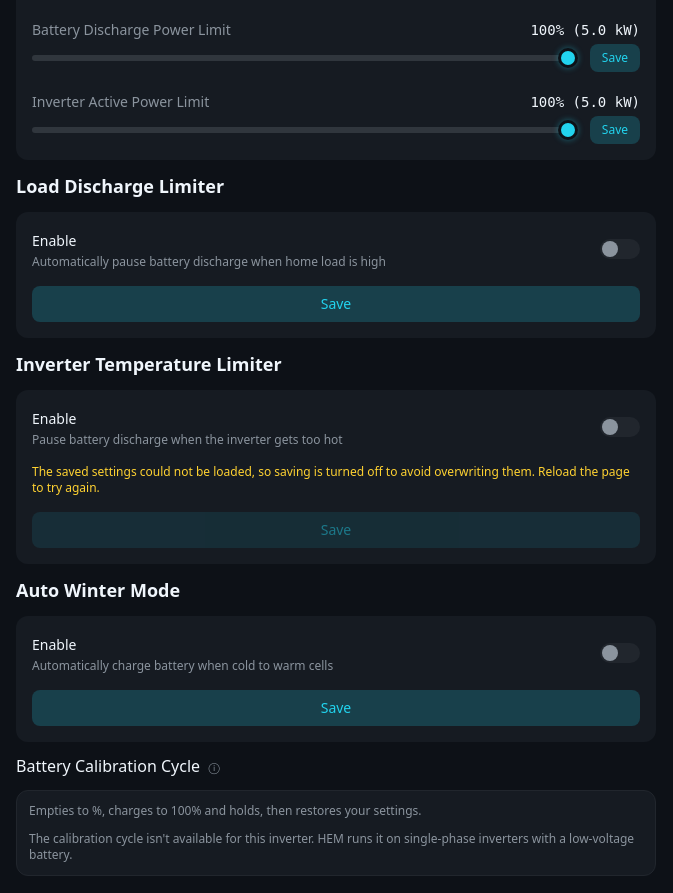
Scenario: <ControlPage/> — Auto Winter save › shows an error when the save is rejected
(page scrolled)
Click the button "Save" below "Auto Winter Mode".
click(336, 708)  # box [32,690,640,726]
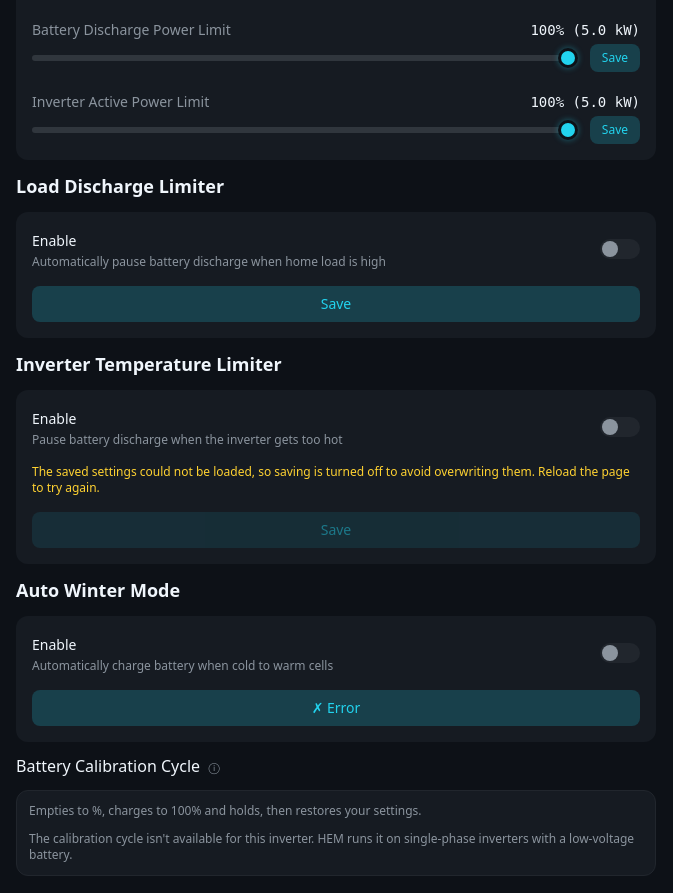
Expected: the button "✗ Error" is shown, [32,690,640,726]
